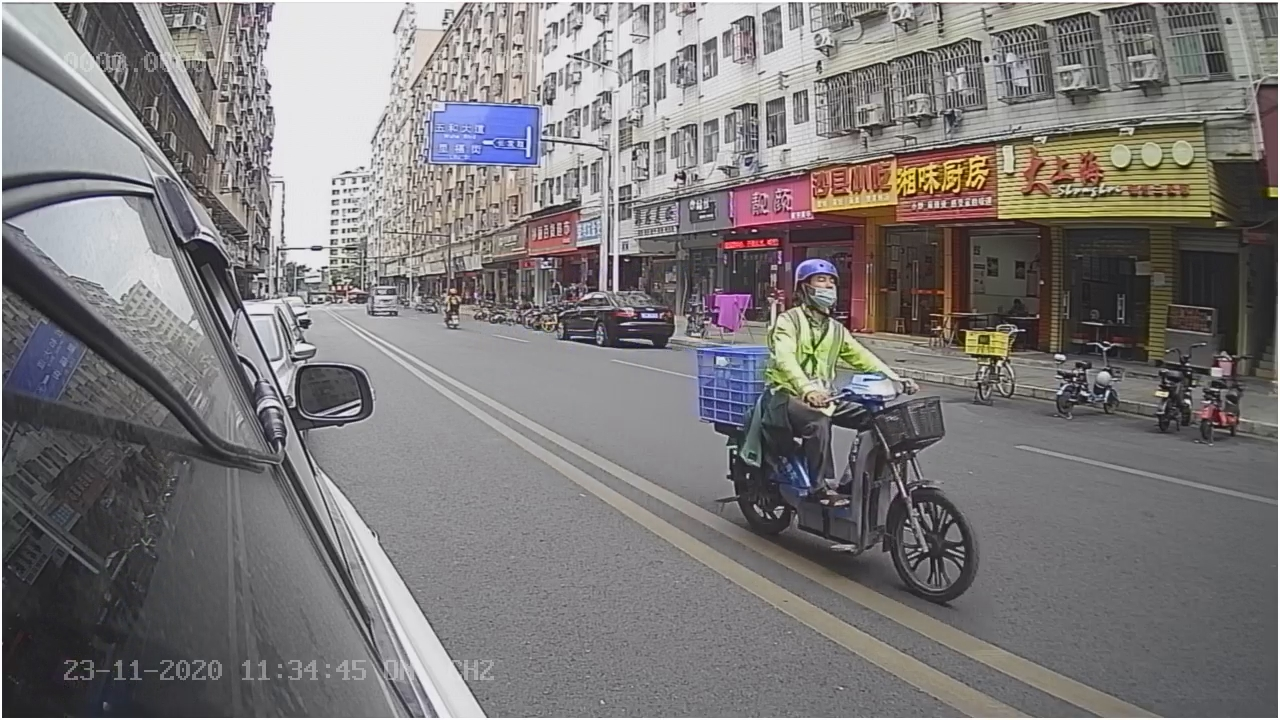person: (770, 248, 911, 402)
